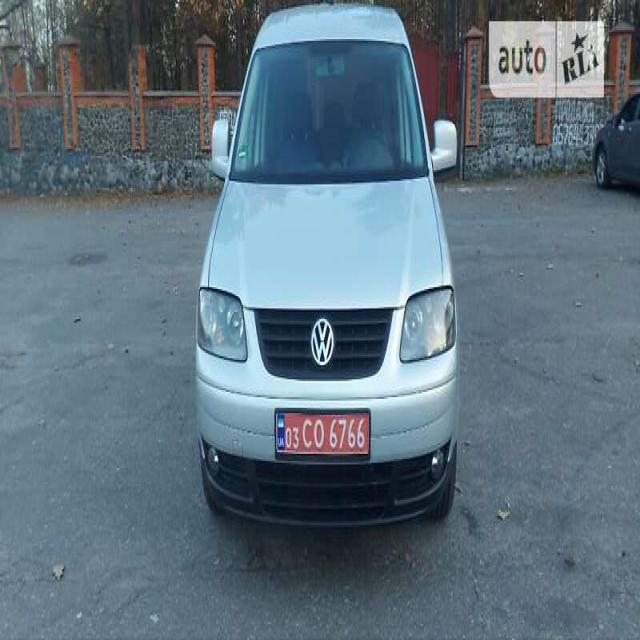plate: (273, 398, 373, 470)
